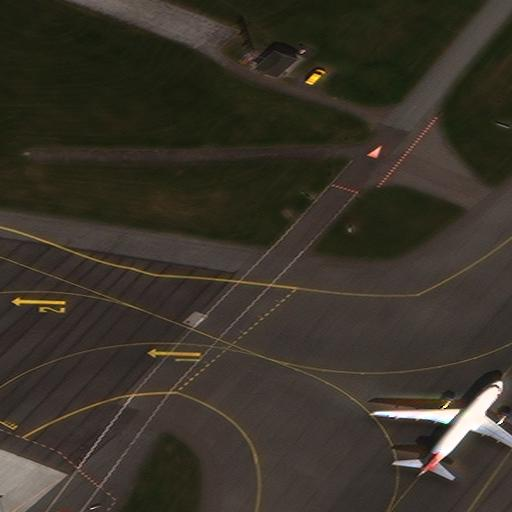Medium Civil Transport: (369, 376, 512, 478)
